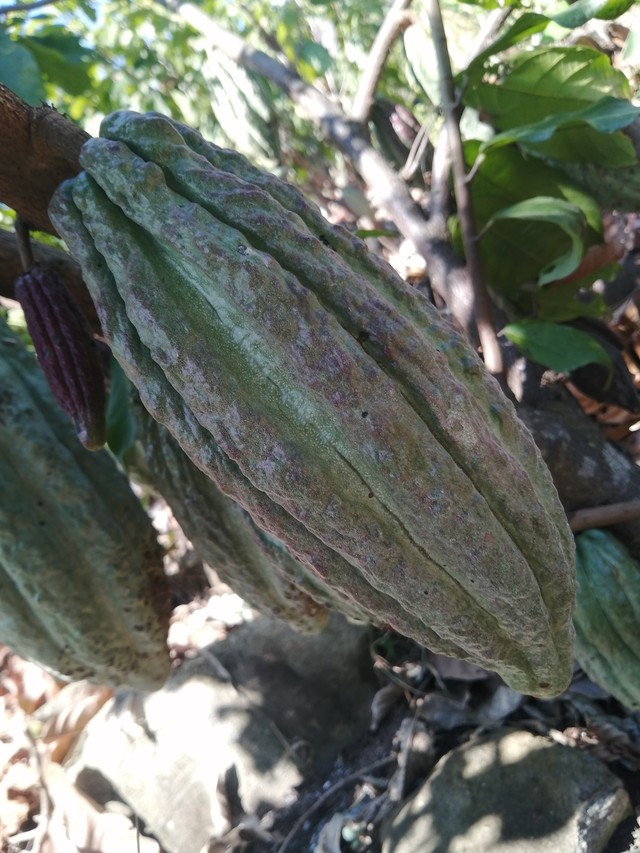Health: (35, 91, 583, 710)
